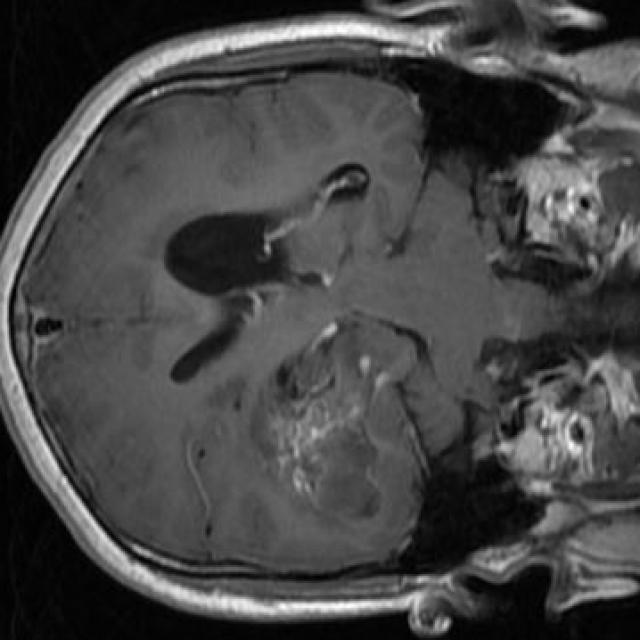glioma: (250, 316, 417, 519)
